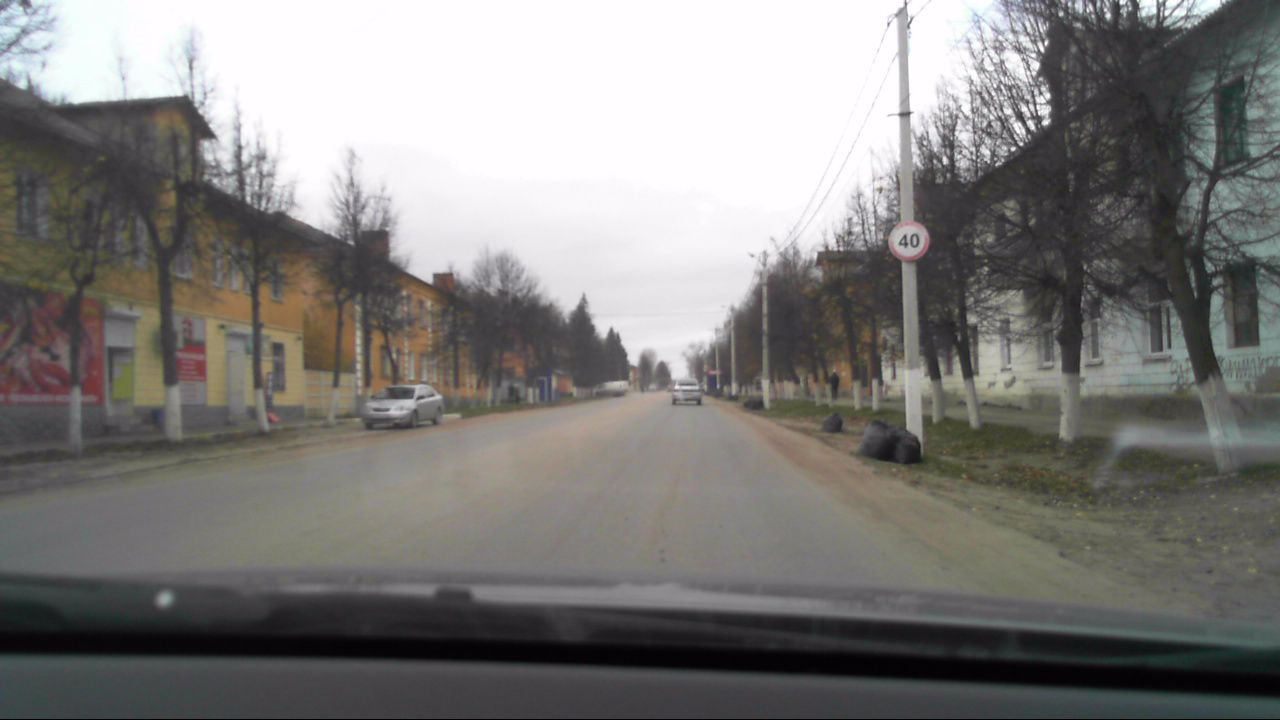speed_warning_40: (887, 220, 930, 262)
